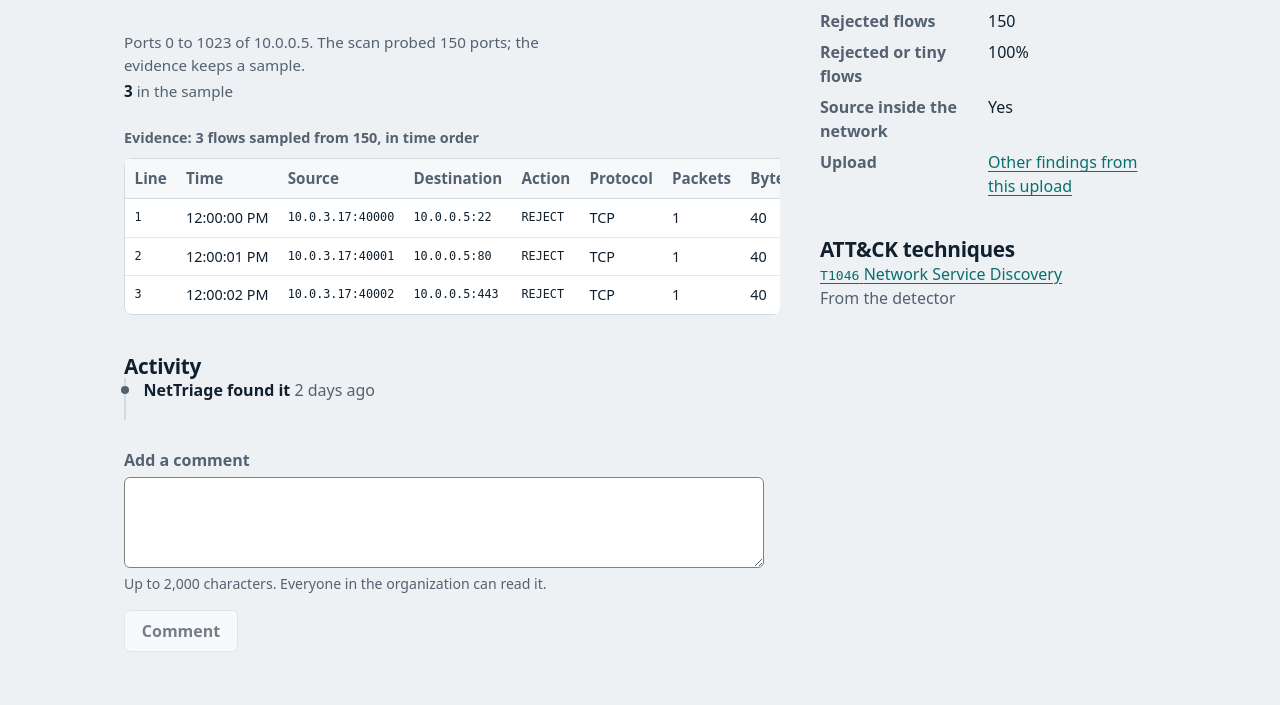
Test: a comment joins the history, sent once
This screenshot has width=1280, height=705.
(page scrolled)
In the text box labelled "Add a comment": (444, 522) top-left (124, 477), bottom-right (764, 568), type "Looking."
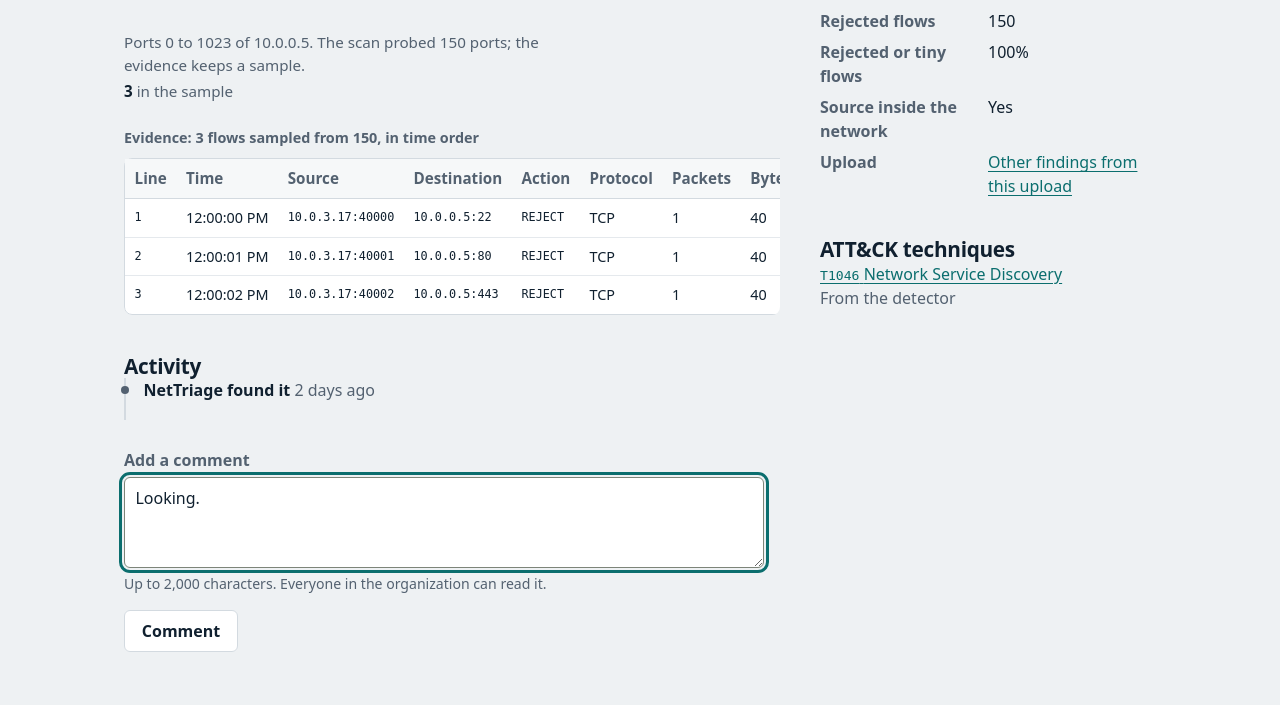
Click the button "Comment": (181, 631) top-left (124, 610), bottom-right (238, 652)
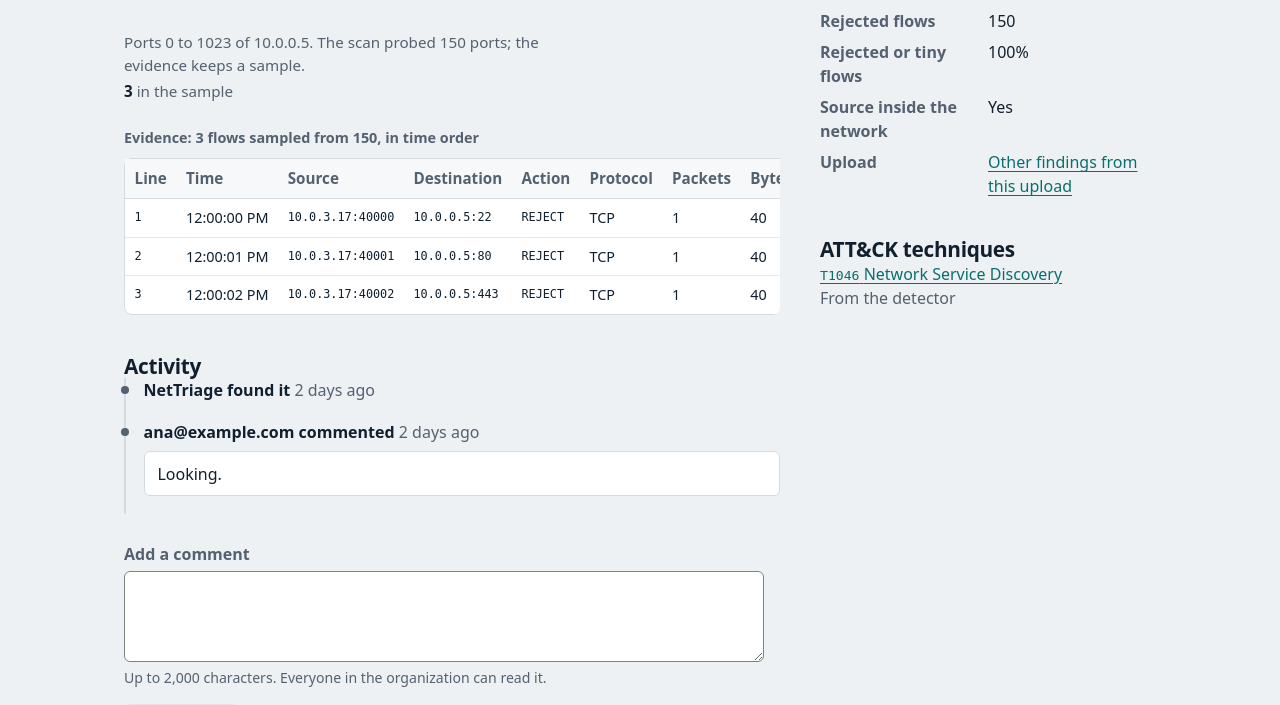
Result: the text "Looking." is shown at top-left (144, 451), bottom-right (780, 496)
Result: the text box labelled "Add a comment" is empty at top-left (124, 571), bottom-right (764, 662)
